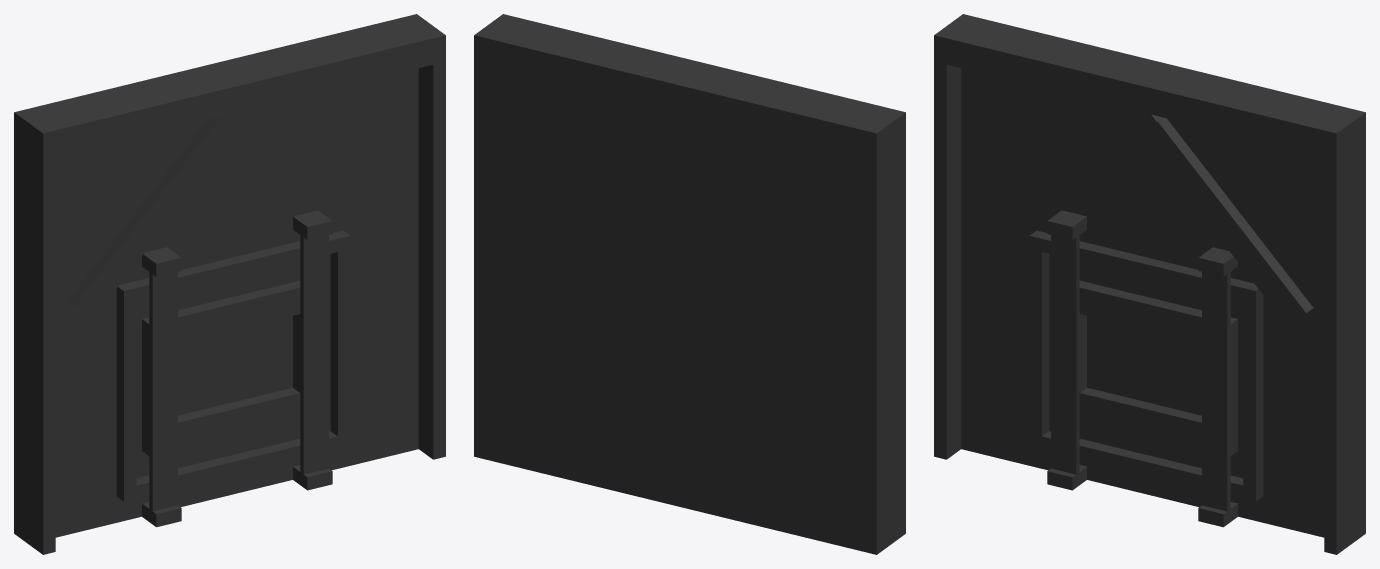
File: c70_front.obj
The picture shows the model from 3 angles, left to right: view 1: azimuth 30°, elevation 25°; view 2: azimuth 150°, elevation 25°; view 3: azimuth 330°, elevation 25°; orthographic projection.
Parts seen in each view (by area): view 1: cube; view 2: cube; view 3: cube.
Part boxes in pixels (x1=…): cube: x1=14, y1=14, x2=445, y2=554; cube: x1=474, y1=14, x2=905, y2=554; cube: x1=934, y1=14, x2=1365, y2=554.
Size of the model in its own units: 2 by 2 by 0.25.
